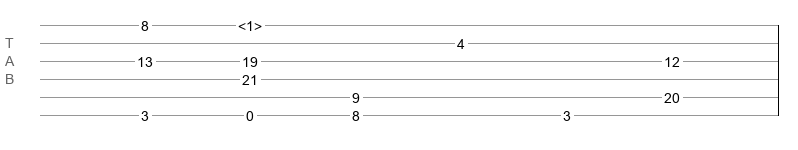0: (246, 108, 254, 118)
12: (664, 54, 680, 64)
13: (137, 54, 153, 64)
19: (242, 54, 258, 64)
20: (664, 90, 680, 100)
21: (242, 72, 258, 82)
3: (141, 108, 149, 118), (563, 108, 571, 118)
4: (457, 36, 465, 46)
8: (141, 18, 149, 28), (352, 108, 360, 118)
9: (352, 90, 360, 100)
harmonic: (238, 18, 262, 28)
